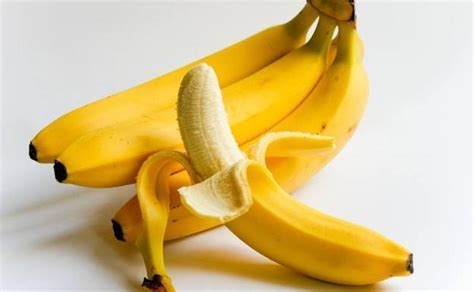banana: (110, 53, 366, 248), (52, 33, 332, 192), (26, 20, 304, 165)
